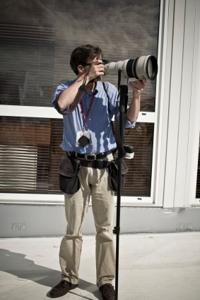person: (49, 44, 146, 300)
